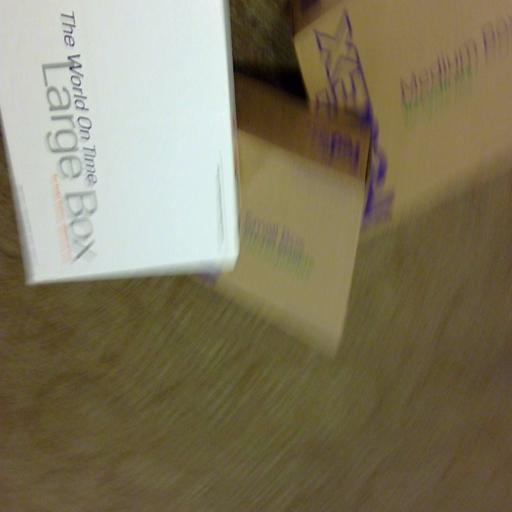Amazon: (0, 0, 257, 280), (290, 0, 512, 238)
